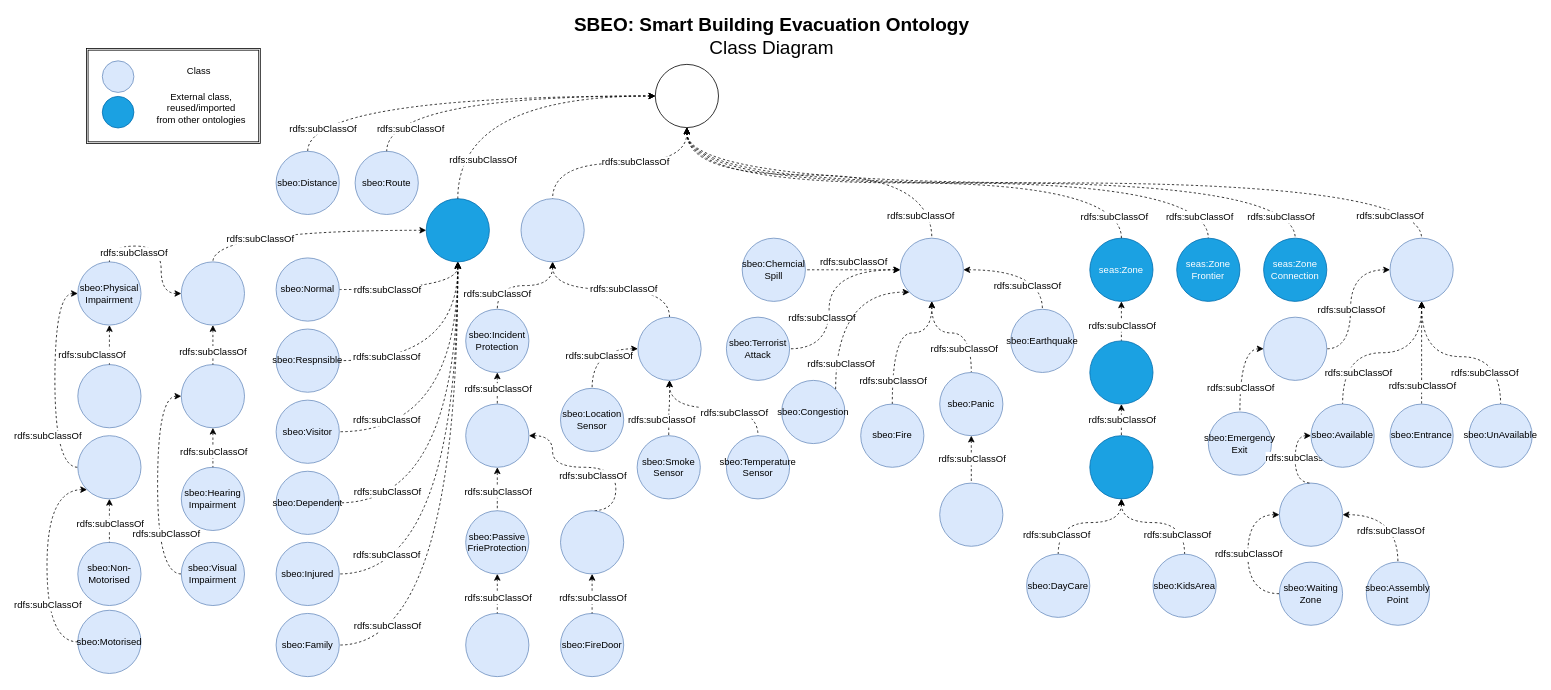
Image size: 1551x690. Some labels were removed from this diagram. Each missing label, with the centre of its shape:
"owl:Thing" belongs at [687,96].
"sbeo:Active FireProtection" belongs at [592,542].
"sbeo:Device" belongs at [552,230].
"sbeo:Exit" belongs at [1295,348].
"sbeo:Fire Extinguisher" belongs at [497,645].
"sbeo:Fire Protection" belongs at [497,435].
"sbeo:Impaired" belongs at [213,293].
"sbeo:Incident" belongs at [931,269].
"sbeo:Low Stamina" belongs at [109,396].
"sbeo:Person" belongs at [457,230].
"sbeo:SafeZone" belongs at [1311,514].
"sbeo:Sensor" belongs at [669,348].
"sbeo:Sensory Impairment" belongs at [213,396].
"sbeo:Space Characteristic" belongs at [1421,269].
"sbeo:Stempeding" belongs at [971,514].
"sbeo:Wheel Chair" belongs at [109,467].
"seas:Building Space" belongs at [1121,372].
"seas:Room" belongs at [1121,467].
